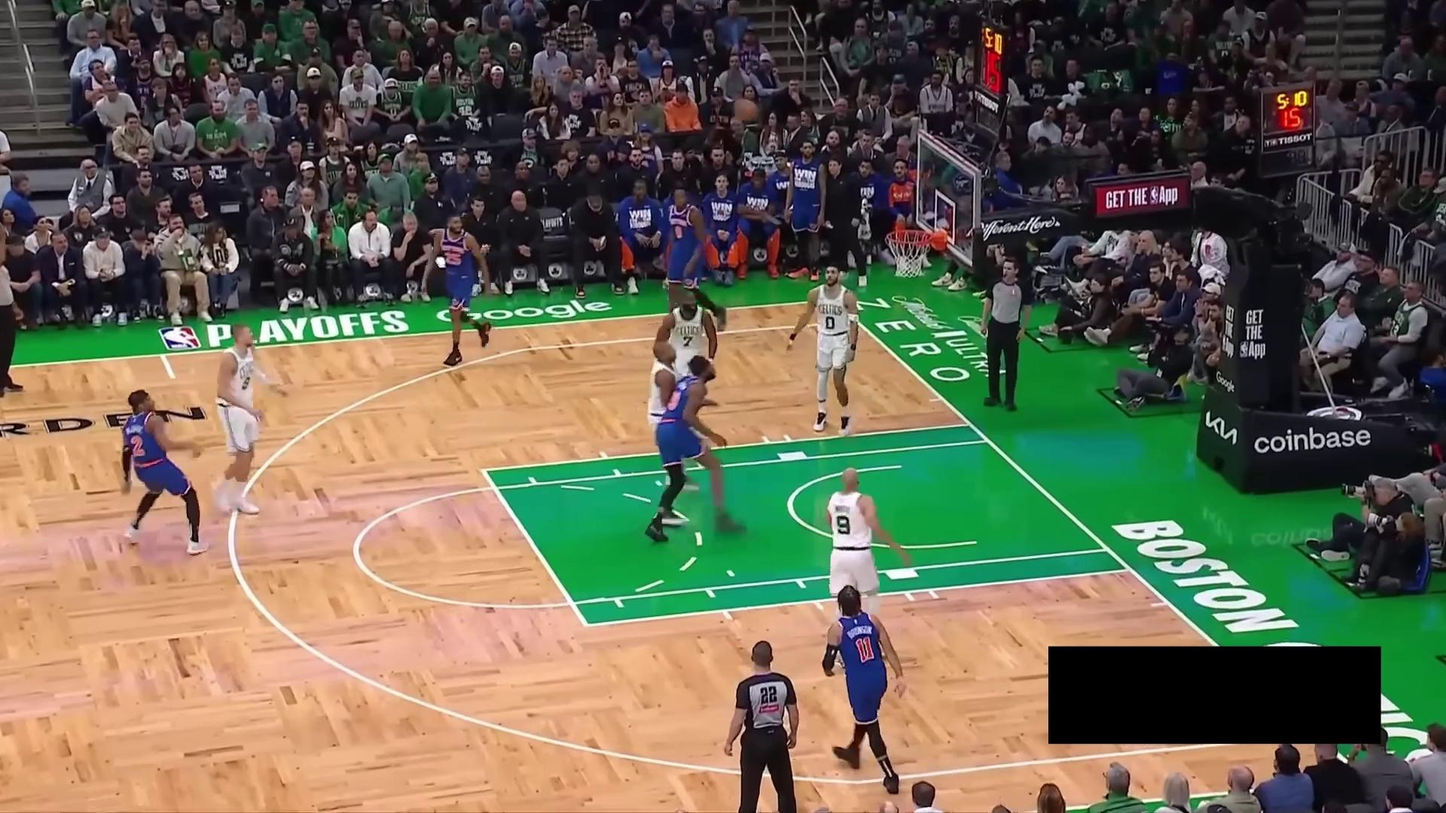ball: (733, 97, 759, 122)
number: (854, 635, 875, 664), (836, 515, 851, 535), (130, 434, 143, 455), (445, 251, 462, 266), (824, 314, 837, 331), (240, 375, 252, 391), (681, 334, 694, 348), (675, 225, 683, 239)
player: (644, 352, 747, 543), (822, 583, 908, 795), (824, 466, 912, 673), (120, 388, 212, 557), (211, 321, 289, 517), (785, 262, 860, 438), (416, 211, 495, 367), (657, 184, 730, 333), (646, 340, 701, 527), (654, 286, 719, 384)
referee: (724, 639, 801, 813), (980, 255, 1034, 413), (0, 221, 27, 400)
rim: (885, 228, 933, 245)
